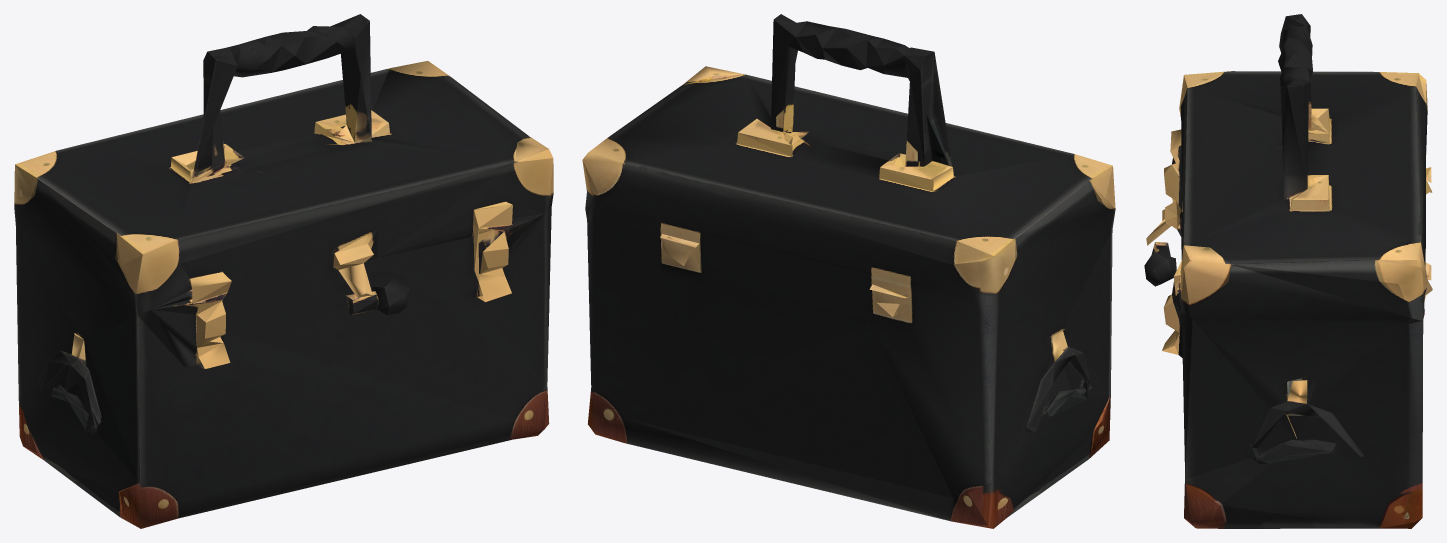
File: IT_Clutter_SmallToolCase.fbx
The picture shows the model from 3 angles, left to right: view 1: azimuth 30°, elevation 25°; view 2: azimuth 150°, elevation 25°; view 3: azimuth 270°, elevation 25°; orthographic projection. The views are drawn at different scales.
Visible parts, largest first — view 1: Mesh_0; view 2: Mesh_0; view 3: Mesh_0.
Boxes of the visible parts, bbox=[...] form: Mesh_0: bbox=[14, 14, 553, 528]; Mesh_0: bbox=[582, 14, 1115, 528]; Mesh_0: bbox=[1144, 14, 1432, 528].
Bounding box in the file's own units: 190 × 169 × 113.
Materials: 1 (1 with a texture image).
